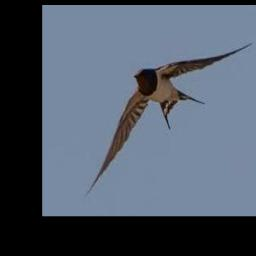Swallow: (83, 43, 253, 199)
